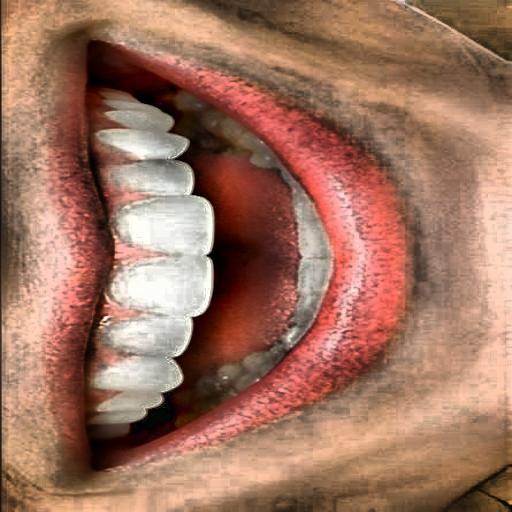Healthy: (28, 33, 447, 459)
